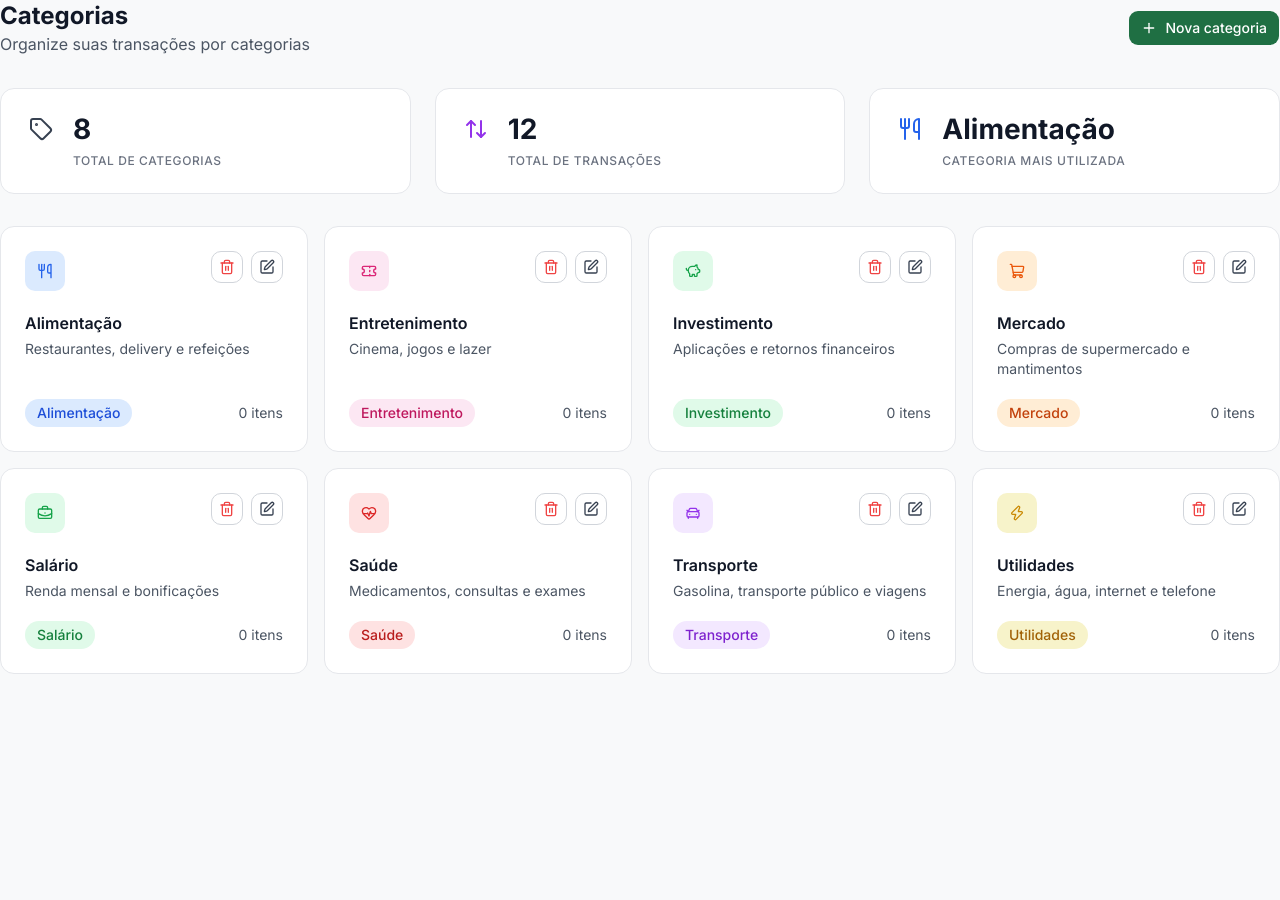
Test case: Categories page › asks for confirmation before deleting
Step 1. Click the button named "Excluir categoria Alimentação" → coordinates (227, 267), box [211, 251, 243, 283]
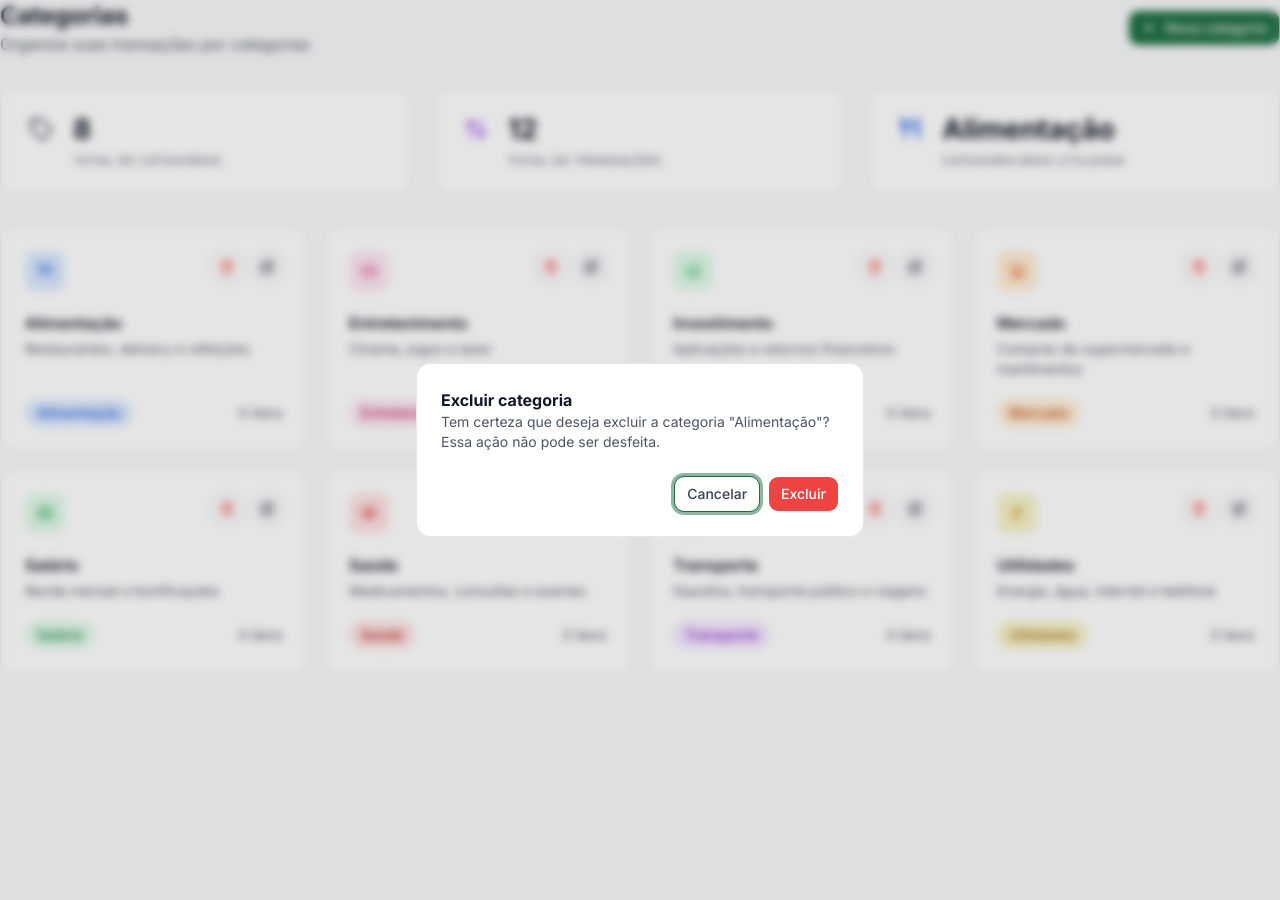
Now the heading "Excluir categoria" is shown, box [441, 390, 572, 410]
Step 2. Click the button "Cancelar" → coordinates (717, 494), box [674, 476, 760, 512]
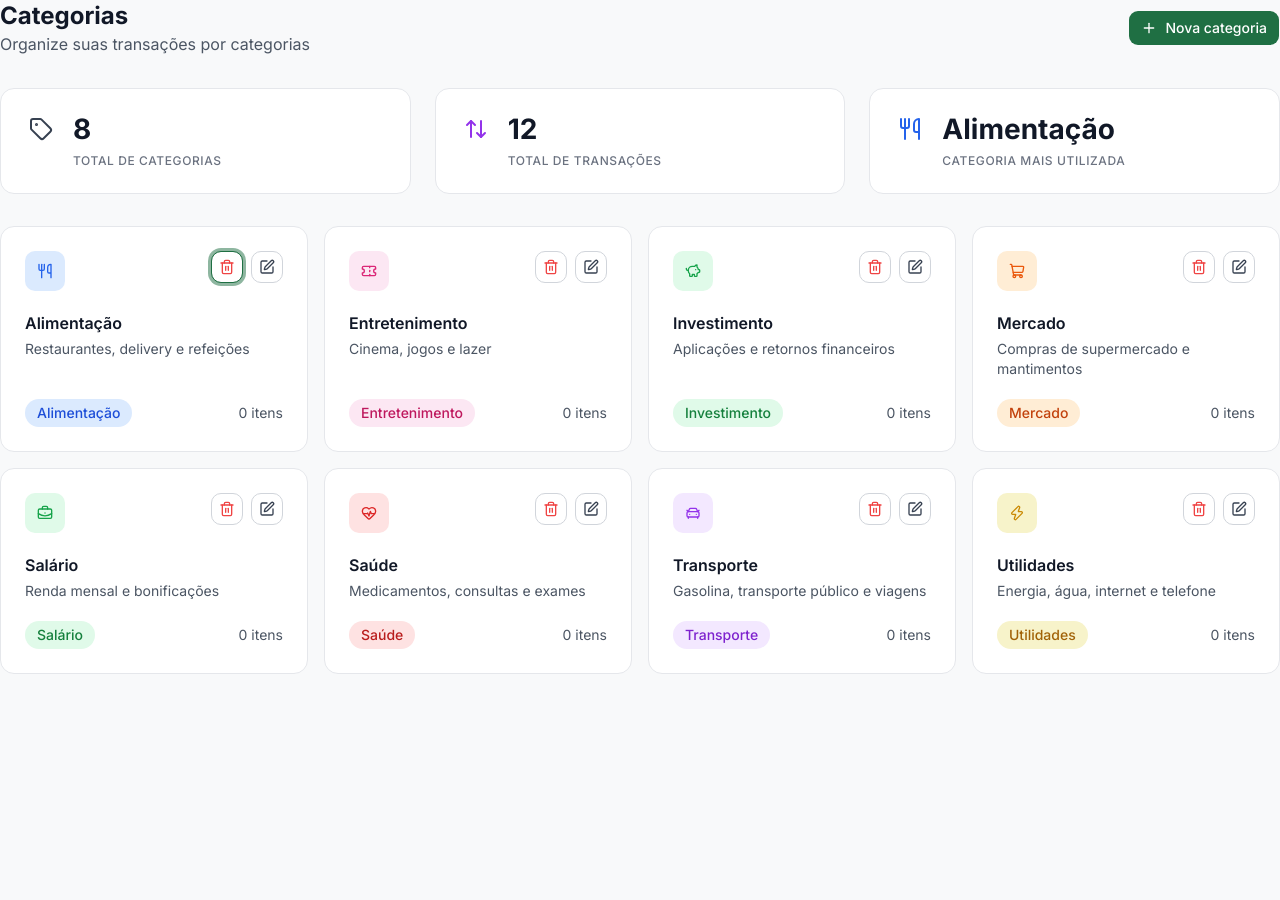
Expected: the text "Restaurantes, delivery e refeições" is shown, [25, 339, 283, 359]
Now the heading "Excluir categoria" is gone
